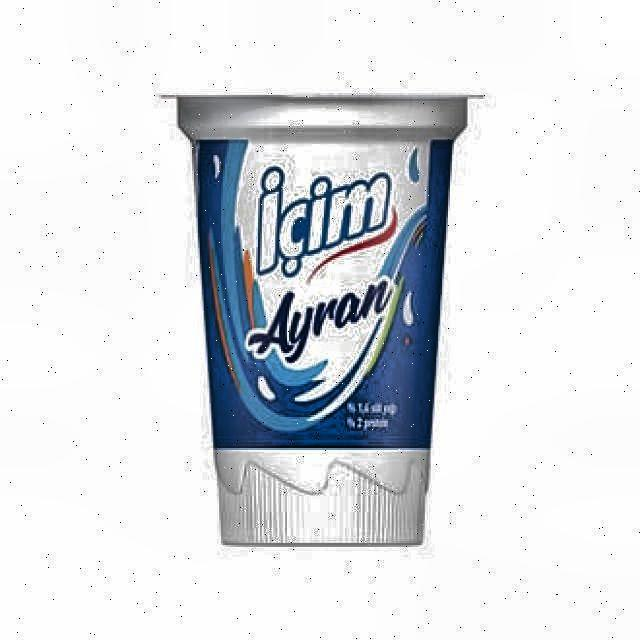plastic: (157, 92, 482, 548)
